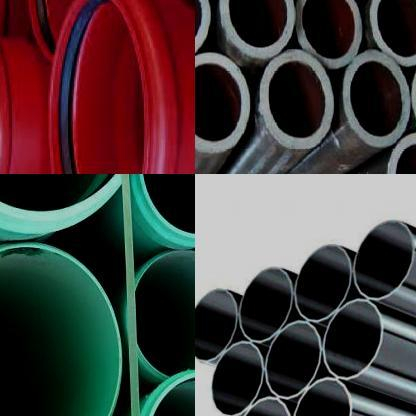pipe: (0, 242, 122, 416), (45, 0, 162, 174), (259, 50, 335, 150), (136, 250, 195, 376), (0, 174, 139, 224), (344, 51, 412, 148), (322, 297, 390, 380), (195, 52, 249, 152), (352, 218, 416, 299), (23, 0, 102, 64), (264, 318, 324, 402), (295, 242, 353, 325), (235, 264, 294, 344), (295, 0, 363, 68), (219, 0, 295, 58), (209, 340, 263, 416), (139, 174, 195, 239), (195, 286, 239, 364), (369, 0, 416, 66), (291, 376, 355, 416), (234, 396, 294, 416)
